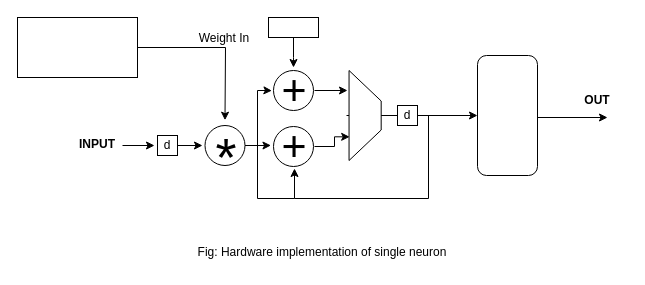
Image size: 645x285. Some labels were removed from this diagram. The centre of each missing label's shape, as x and y in pixels:
"Bias" goes at [293,27].
"ReLU" goes at [507,115].
"Weight Memory" goes at [77,47].
